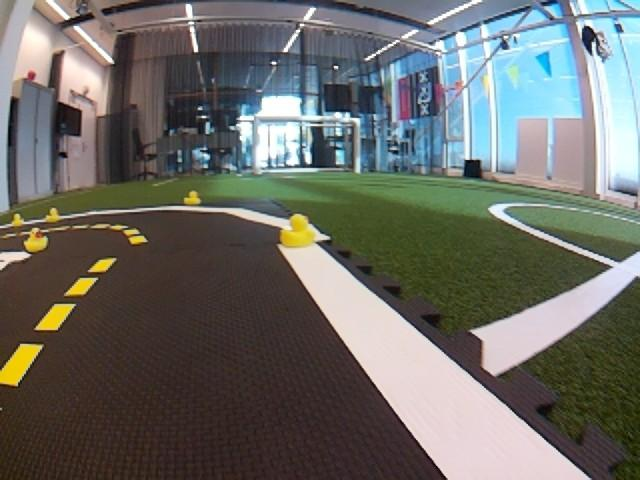Duckies: (279, 214, 319, 248), (23, 227, 48, 252), (184, 191, 201, 205), (45, 208, 62, 222), (11, 214, 23, 226)
